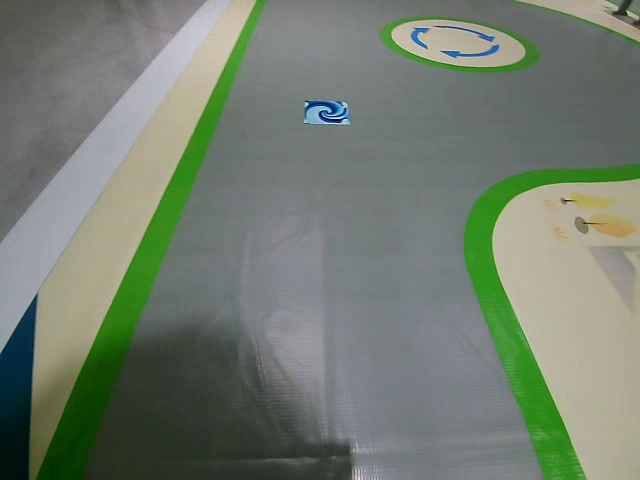circle: (295, 83, 351, 131)
